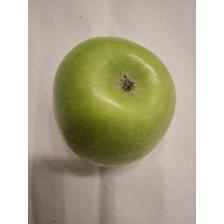Apfel: (50, 32, 178, 170)
